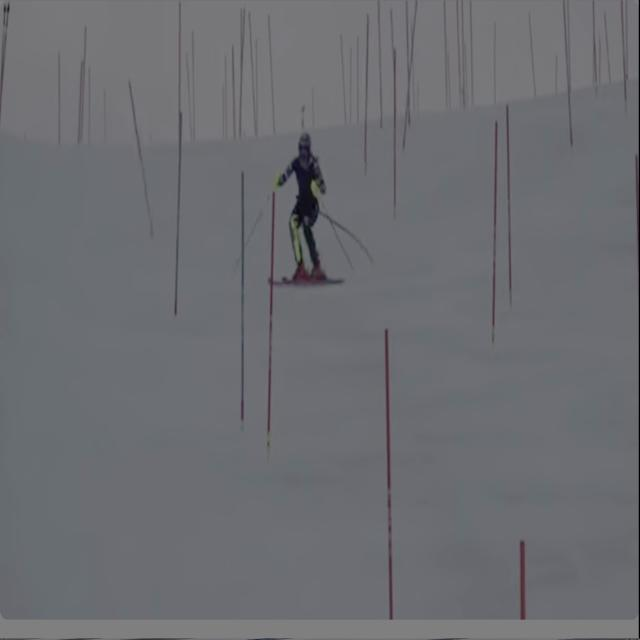gate: (369, 326, 416, 640), (262, 185, 284, 454), (232, 161, 252, 456), (162, 110, 189, 325), (486, 119, 506, 369), (496, 97, 518, 316)
